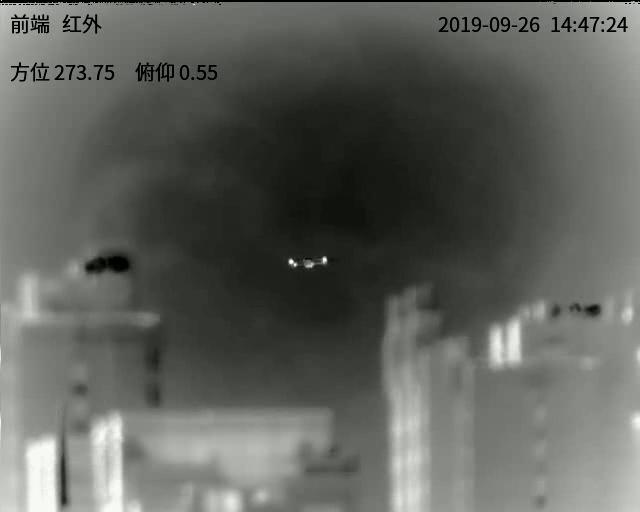DRONE: (287, 255, 328, 270)
